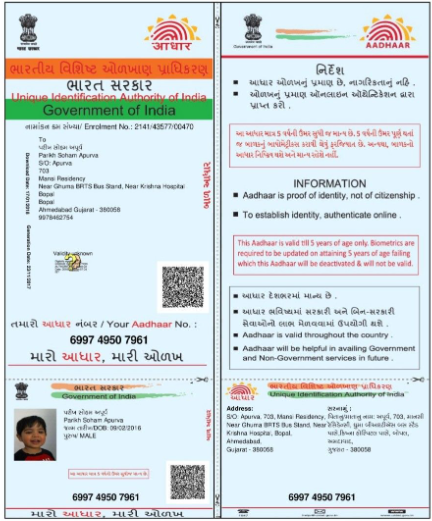aadhaar: (2, 2, 218, 518), (221, 2, 430, 517)
